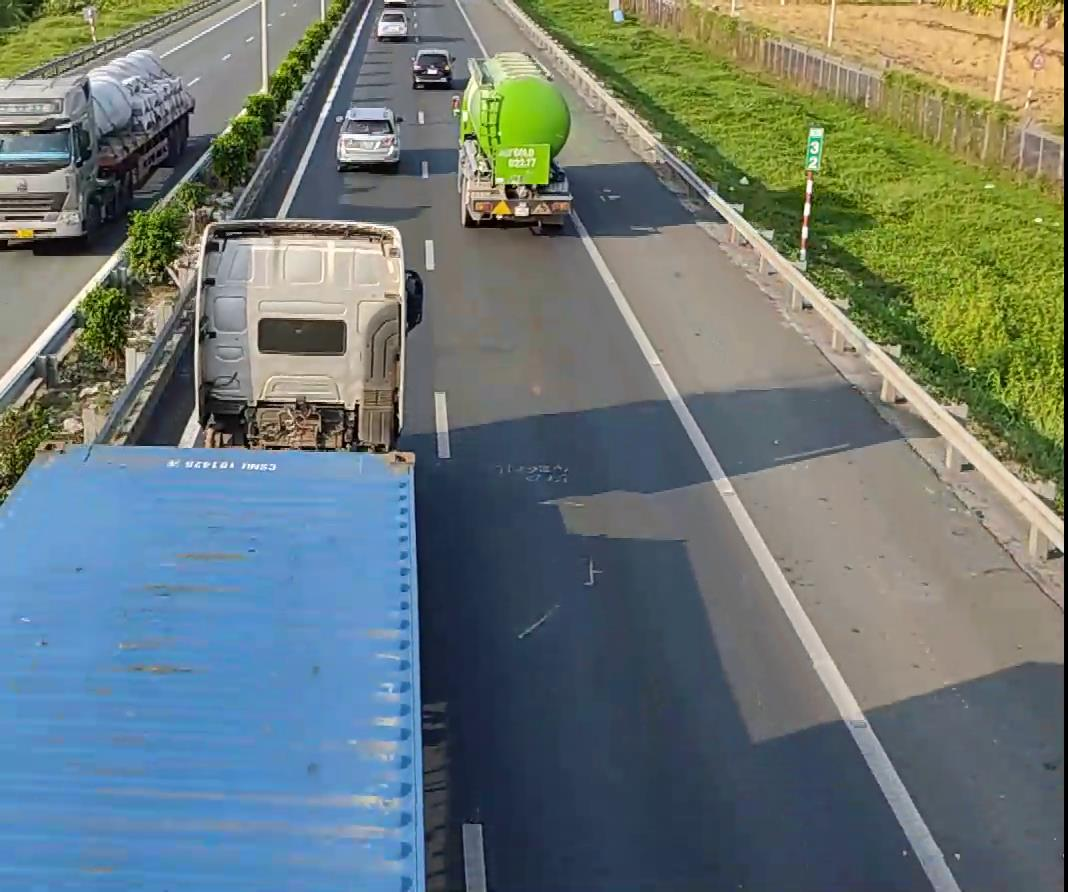car: (334, 104, 403, 170)
container: (0, 217, 414, 892), (0, 49, 196, 247), (454, 50, 572, 232)
